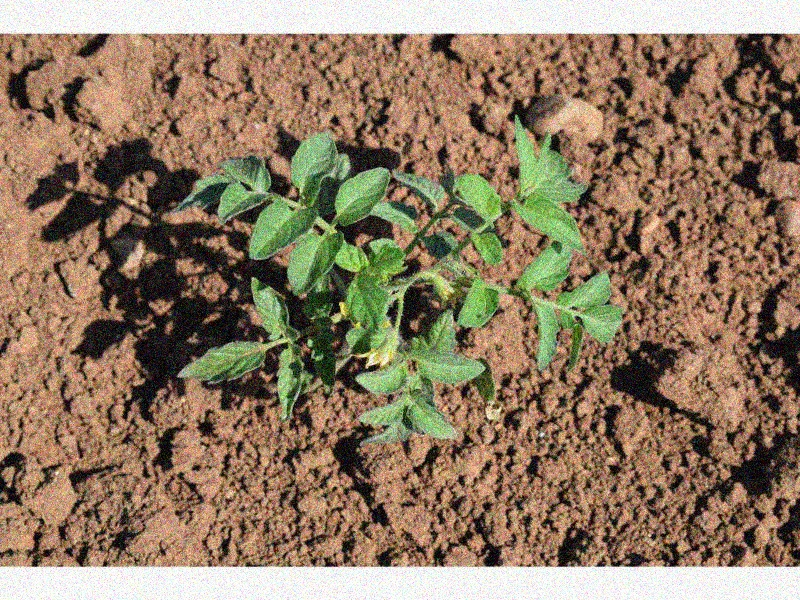tomato: (176, 113, 623, 447)
